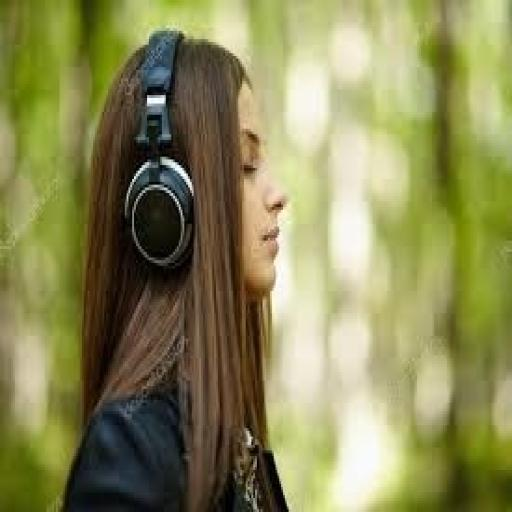listening_to_music: (56, 25, 296, 509)
